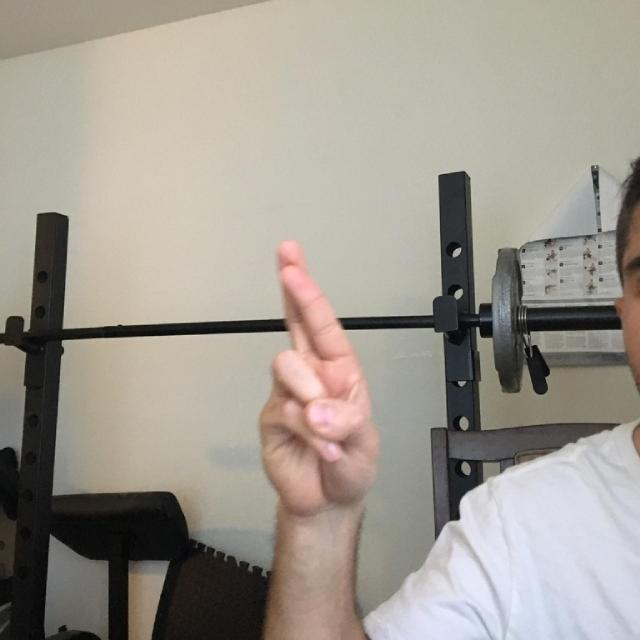R: (224, 209, 432, 555)
